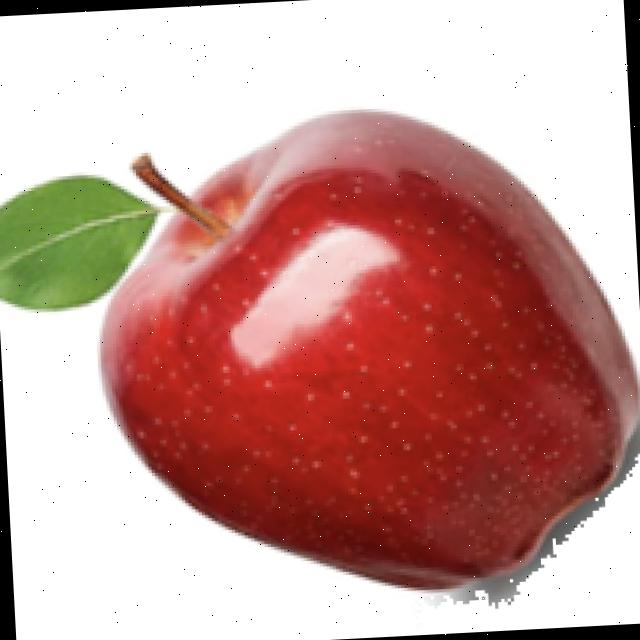apple: (0, 103, 640, 609)
